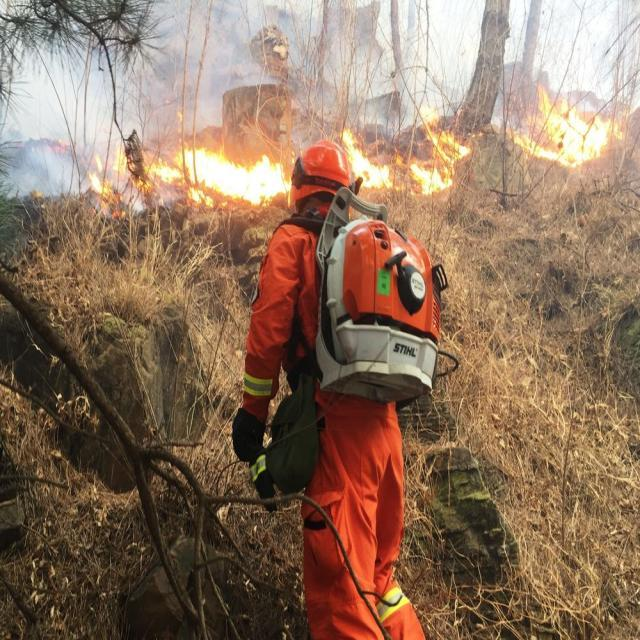Fire: (336, 106, 479, 202), (504, 72, 630, 175), (152, 125, 298, 212)
Smoke: (0, 0, 192, 227), (156, 0, 417, 138)
